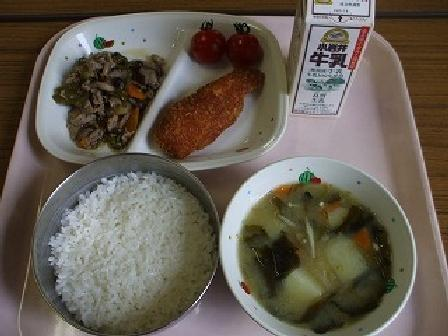Cherry tomatoes: (181, 12, 270, 76)
Milk: (278, 2, 384, 122)
Rice: (38, 159, 223, 326)
cooked food based on meat: (62, 44, 161, 145)
cutlet: (157, 71, 273, 159)
vegetable soup: (223, 165, 410, 326)
